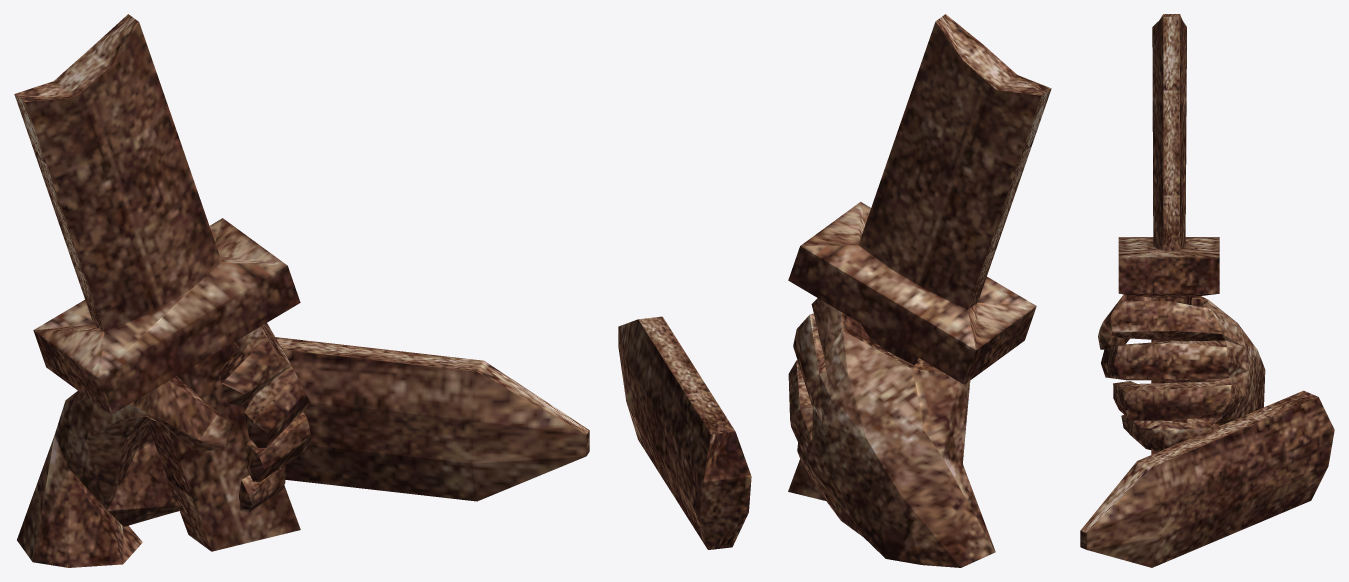
File: ob-bigstatue02.glb
The picture shows the model from 3 angles, left to right: view 1: azimuth 30°, elevation 25°; view 2: azimuth 150°, elevation 25°; view 3: azimuth 270°, elevation 25°; orthographic projection. The views are drawn at different scales.
Visible parts, largest first — view 1: Object01; view 2: Object01; view 3: Object01.
Boxes of the visible parts, x1=… form: Object01: x1=14, y1=14, x2=589, y2=567; Object01: x1=618, y1=14, x2=1051, y2=567; Object01: x1=1080, y1=14, x2=1334, y2=567.
Bounding box in the file's own units: 5.81 × 5.88 × 3.2.
Materials: 1 (1 with a texture image).
